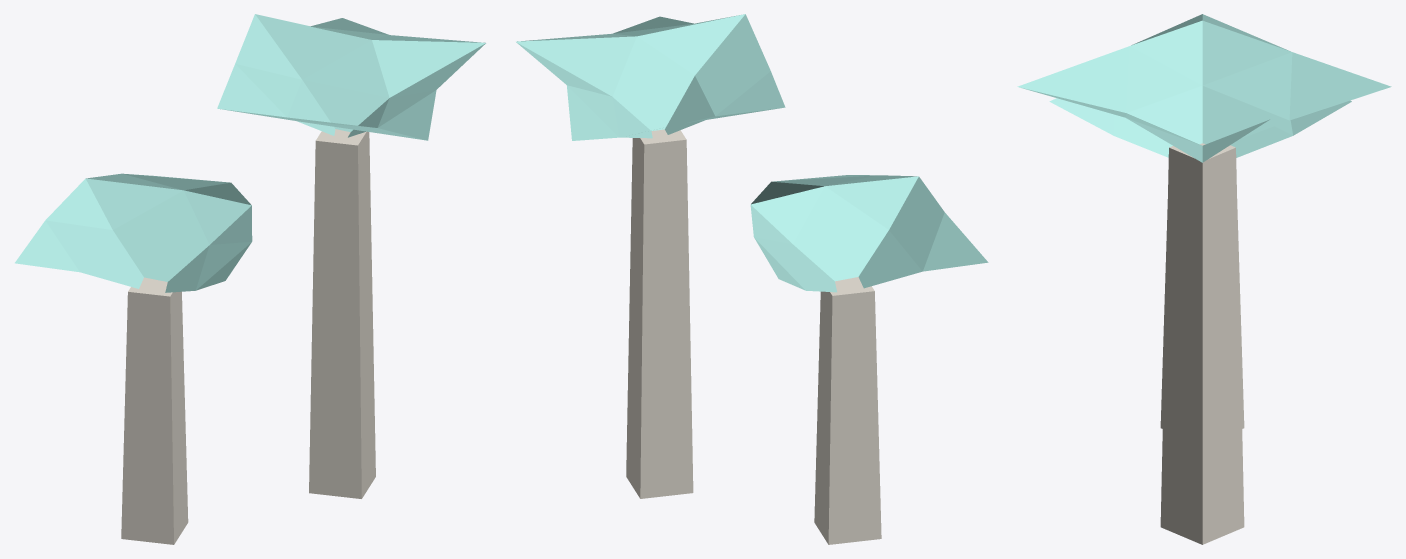
File: glowcap_v24.glb
3 views of the same model, side by side, from view 1: azimuth 30°, elevation 25°; view 2: azimuth 150°, elevation 25°; view 3: azimuth 270°, elevation 25° (orthographic). The views are drawn at different scales.
Parts seen in each view (by area): view 1: lod0; view 2: lod0; view 3: lod0.
Boxes of the visible parts, left/top/right/bottom form: lod0: left=15, top=14, right=485, bottom=544; lod0: left=516, top=14, right=988, bottom=544; lod0: left=1017, top=14, right=1391, bottom=544.
Size of what is drawn, in the model's own units: 0.3521 by 0.3329 by 0.2237.
